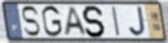A: (63, 7, 90, 37)
G: (41, 5, 64, 39)
I: (111, 5, 123, 38)
J: (128, 6, 149, 38)
S: (81, 4, 107, 38), (20, 5, 42, 38)
